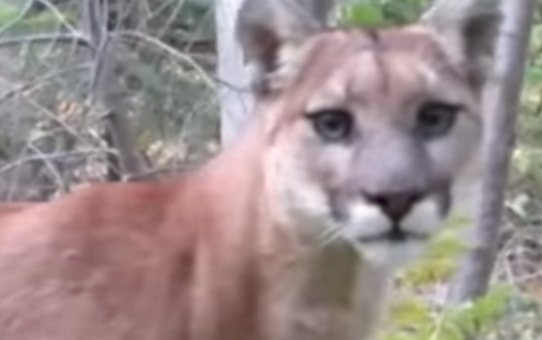Mountain Lion: (9, 6, 502, 337)
